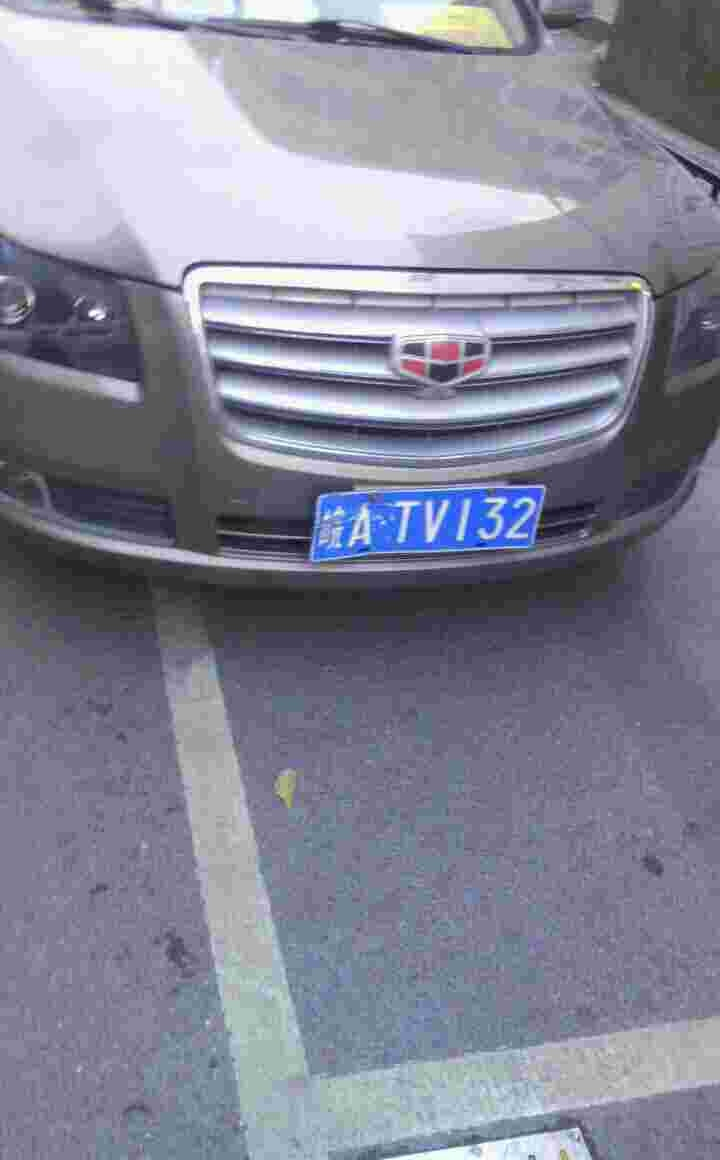plate: (310, 482, 552, 562)
